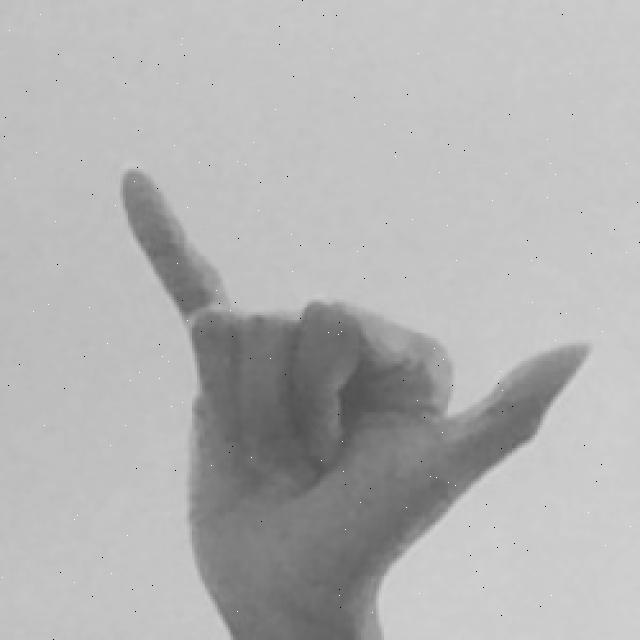Y: (115, 161, 599, 640)
